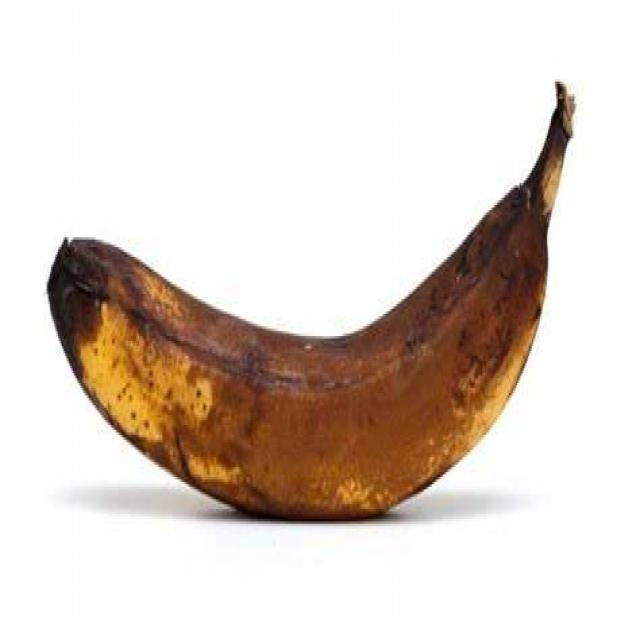Banana: (44, 80, 576, 516)
